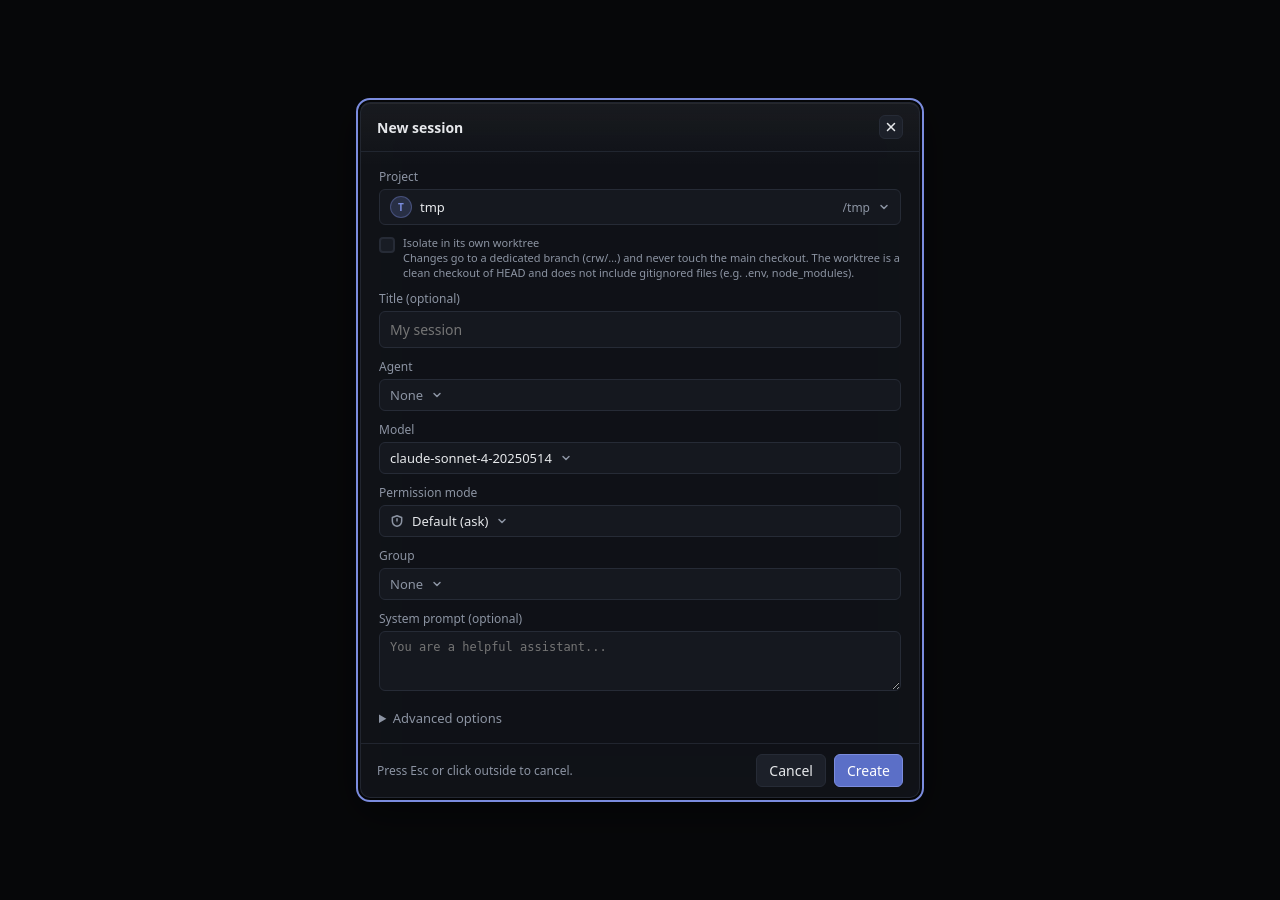
it: NewSessionDialog project prefill › closes only the project menu on Escape, keeping the dialog open
Click the button titled "/tmp": [401, 207] box 379,189 -> 901,225
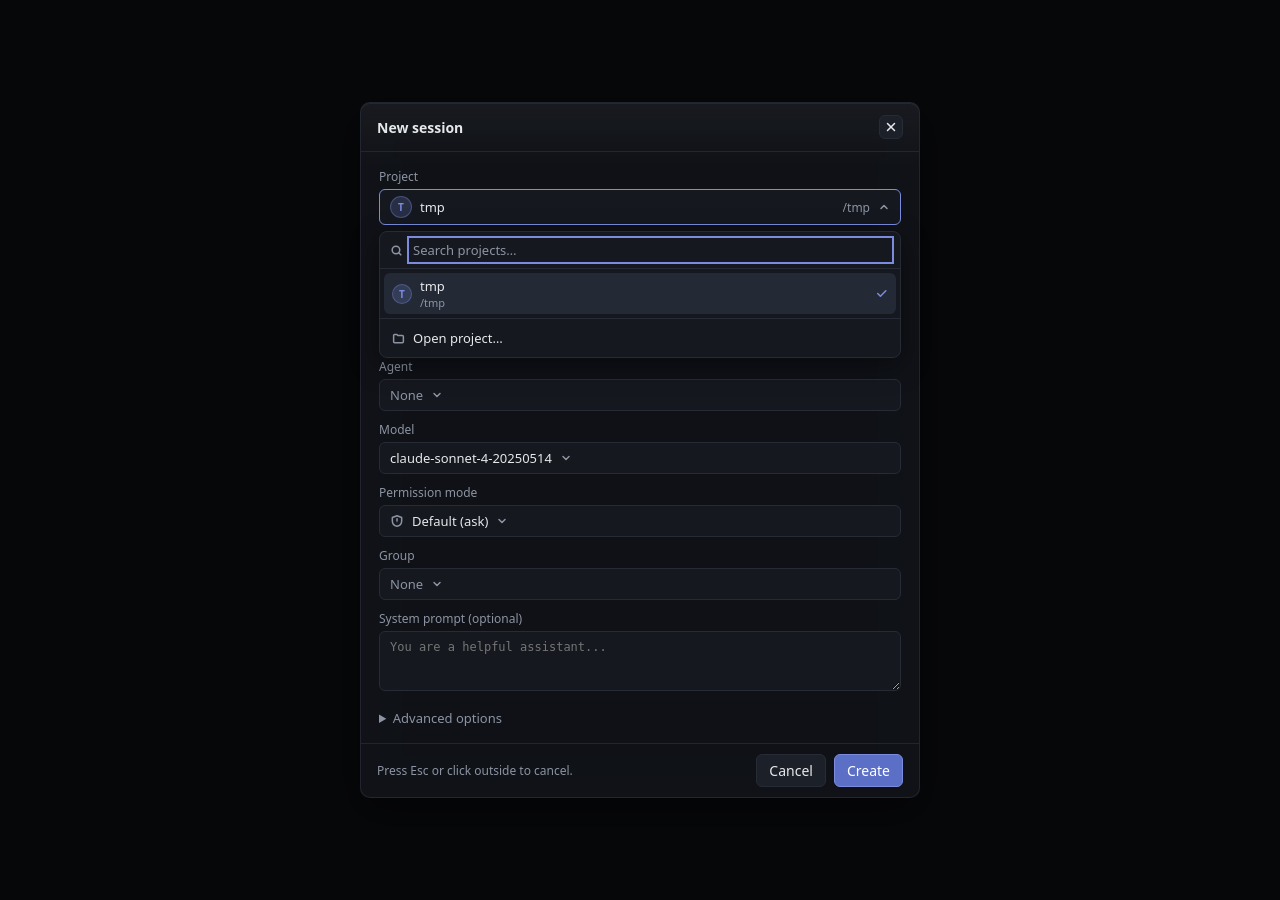
Press Escape in the field labelled "Search projects", box 411,240 -> 890,260
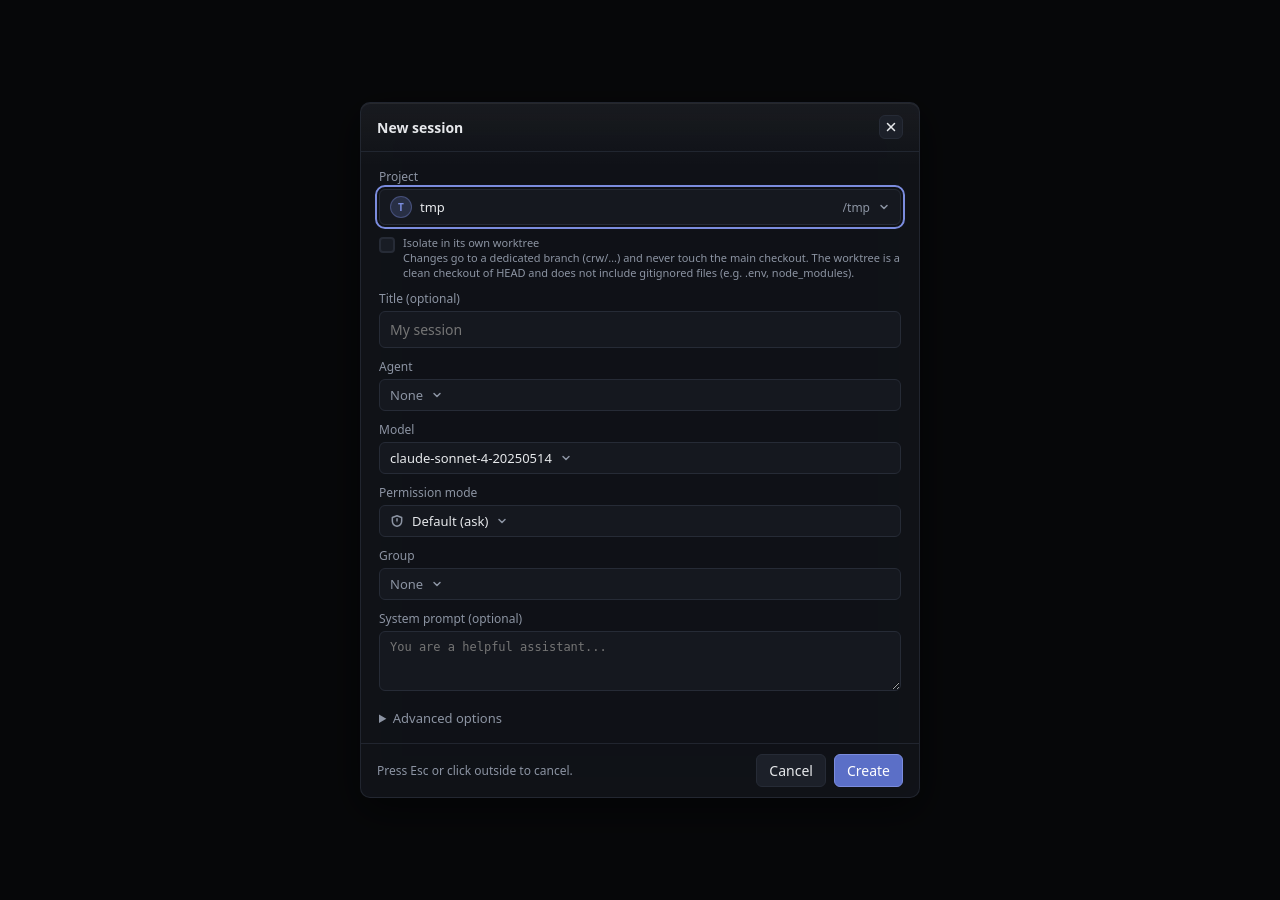
expect the heading "New session" is shown: met, box 377,118 -> 463,136
expect the dialog is gone: met
